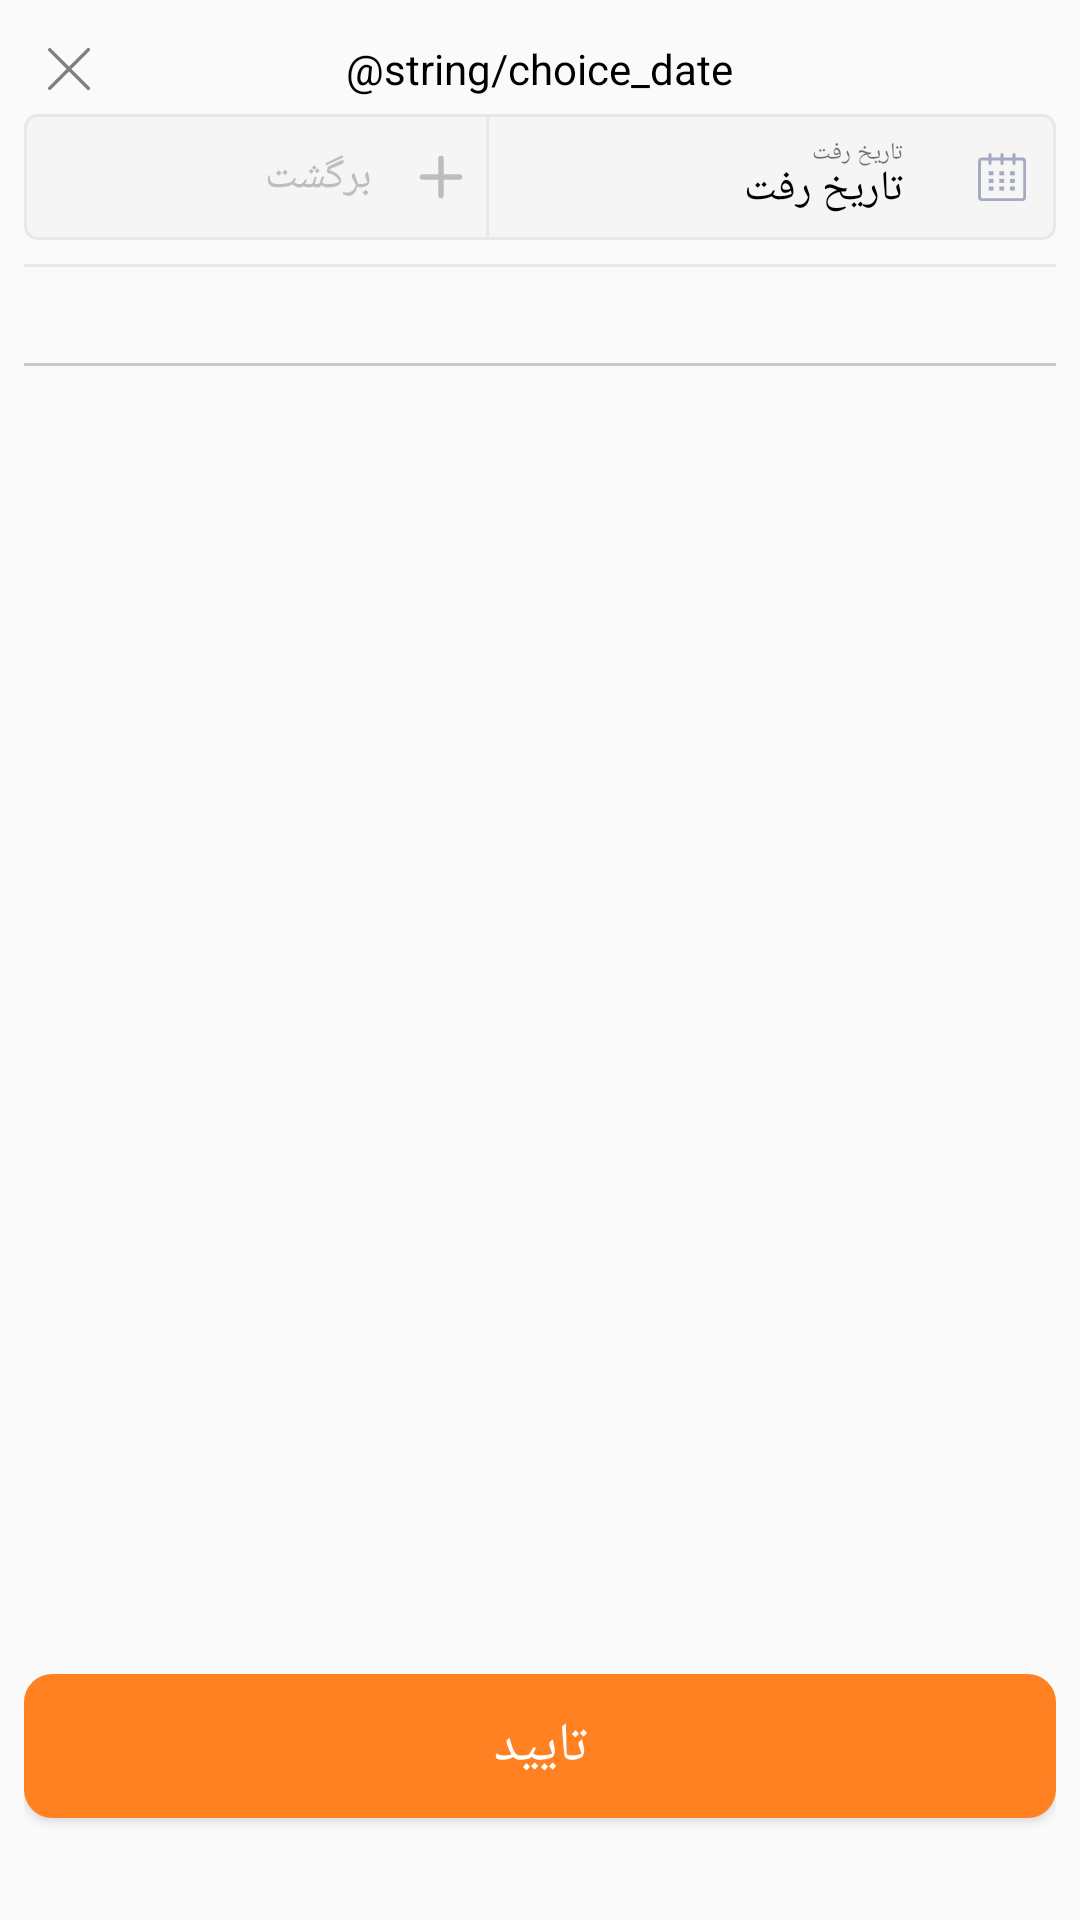

Screen size 1080px x 1920px. Icon name, then its center in pixels as [x,y]:
add no border: [441,177]
calendar: [1002,177]
cancel: [69,69]
